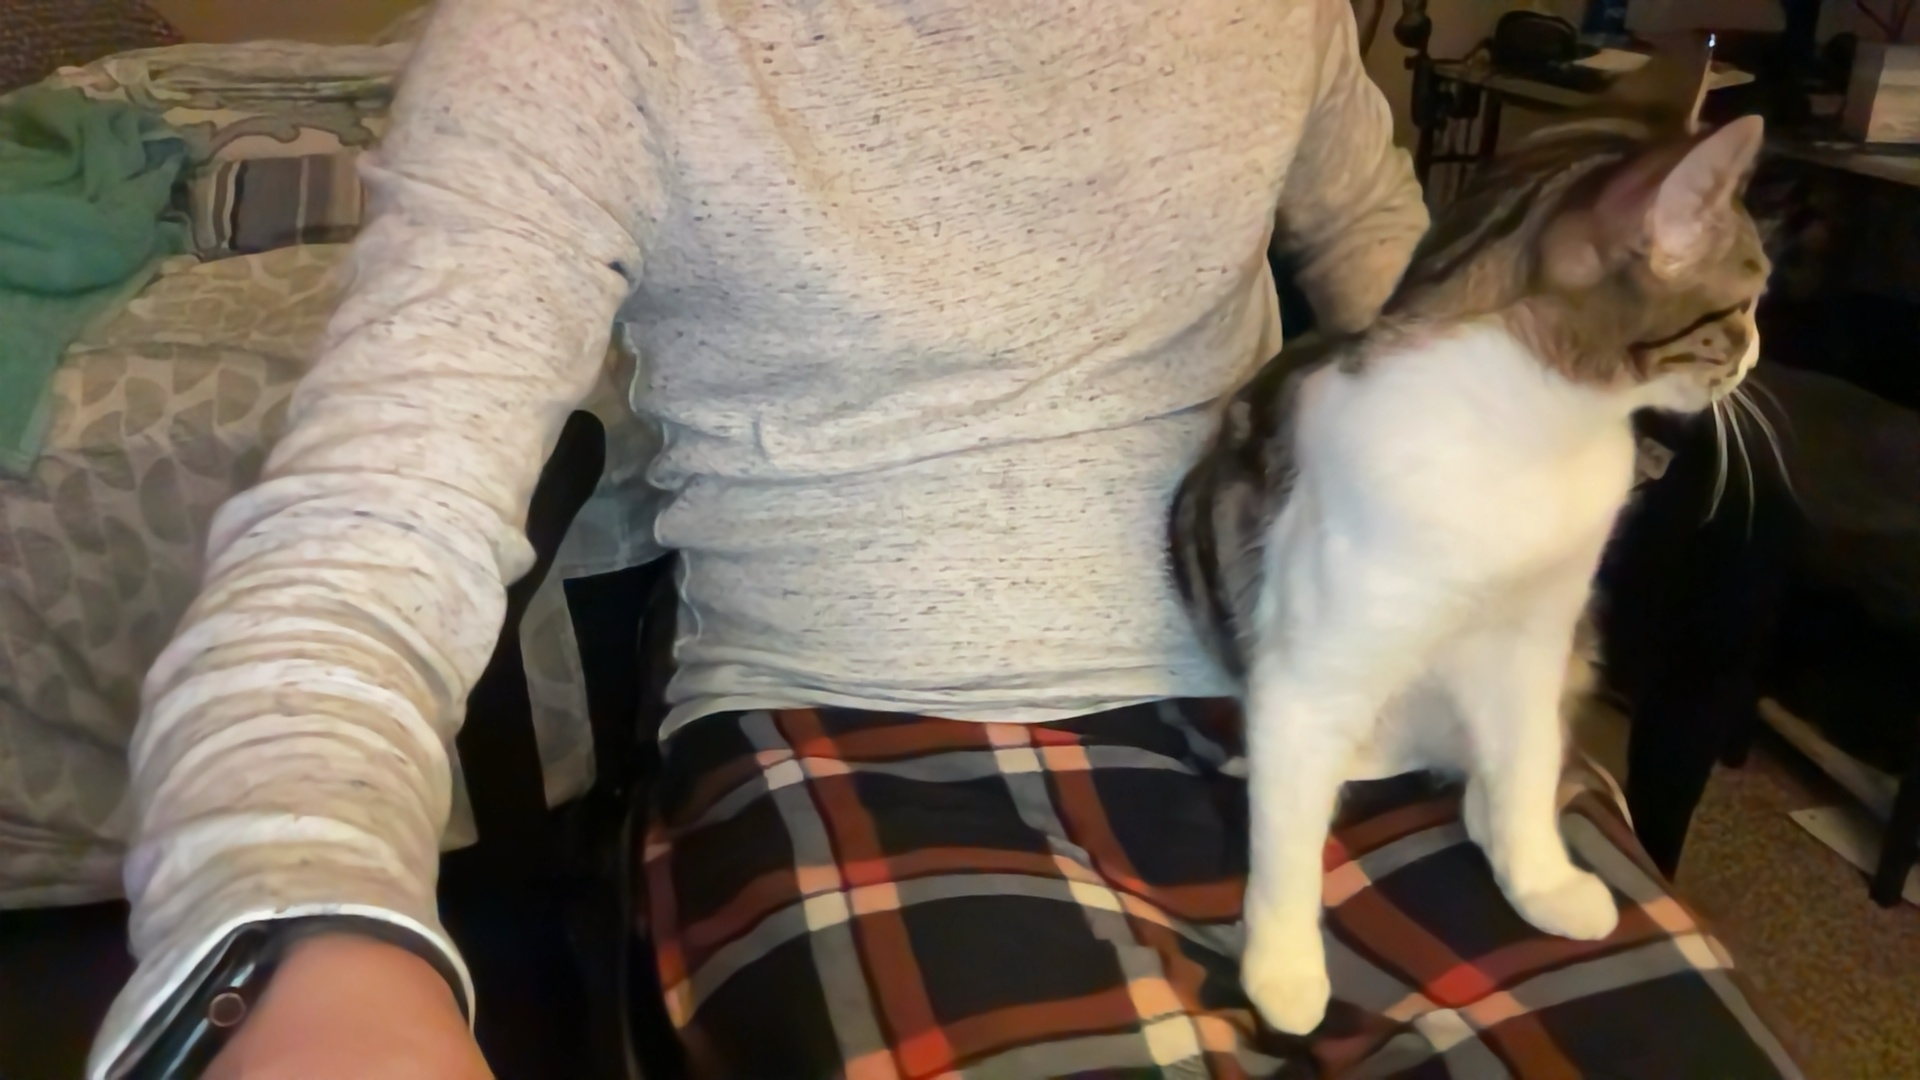cat: (1176, 22, 1789, 1054)
